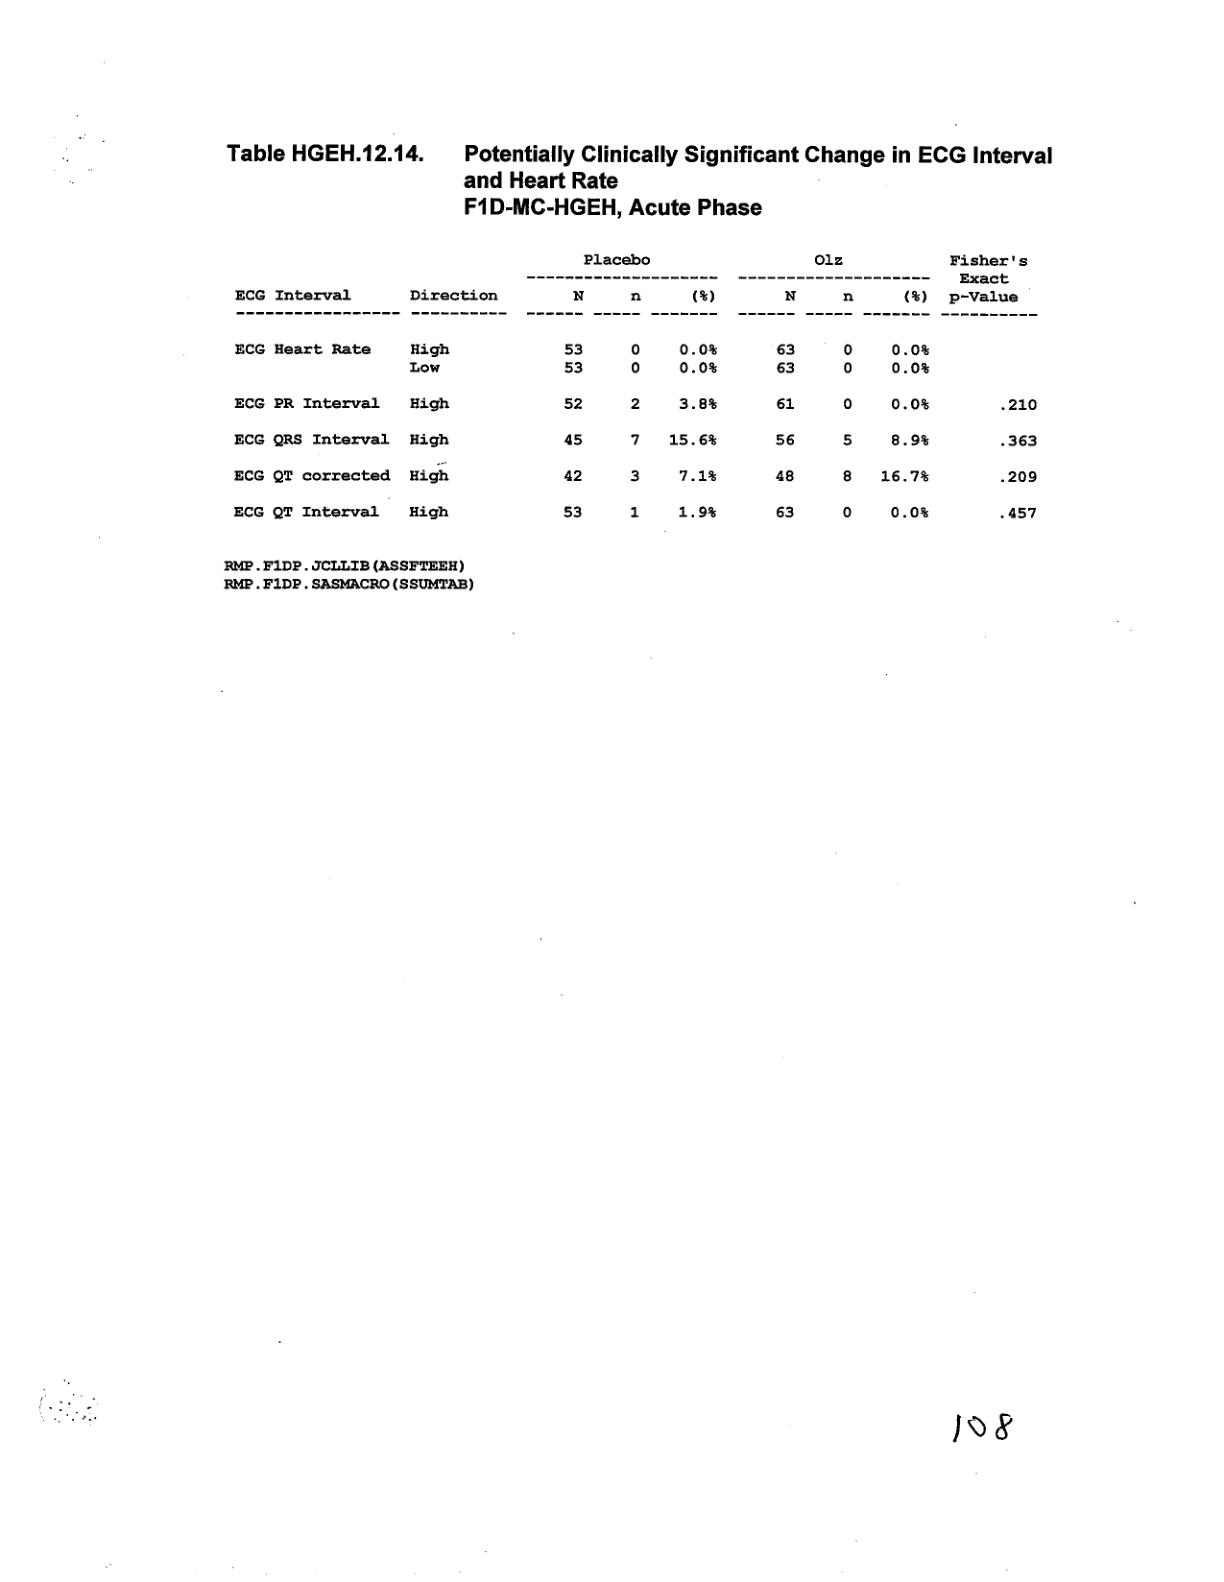nolines: (229, 249, 1042, 526)
